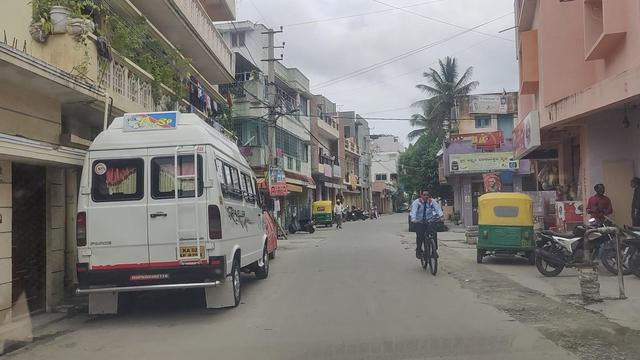HMV: (72, 109, 270, 323)
LMV: (476, 194, 535, 264), (408, 189, 444, 271)
RoadDamages: (542, 297, 600, 360), (492, 283, 536, 328), (451, 262, 486, 291)
